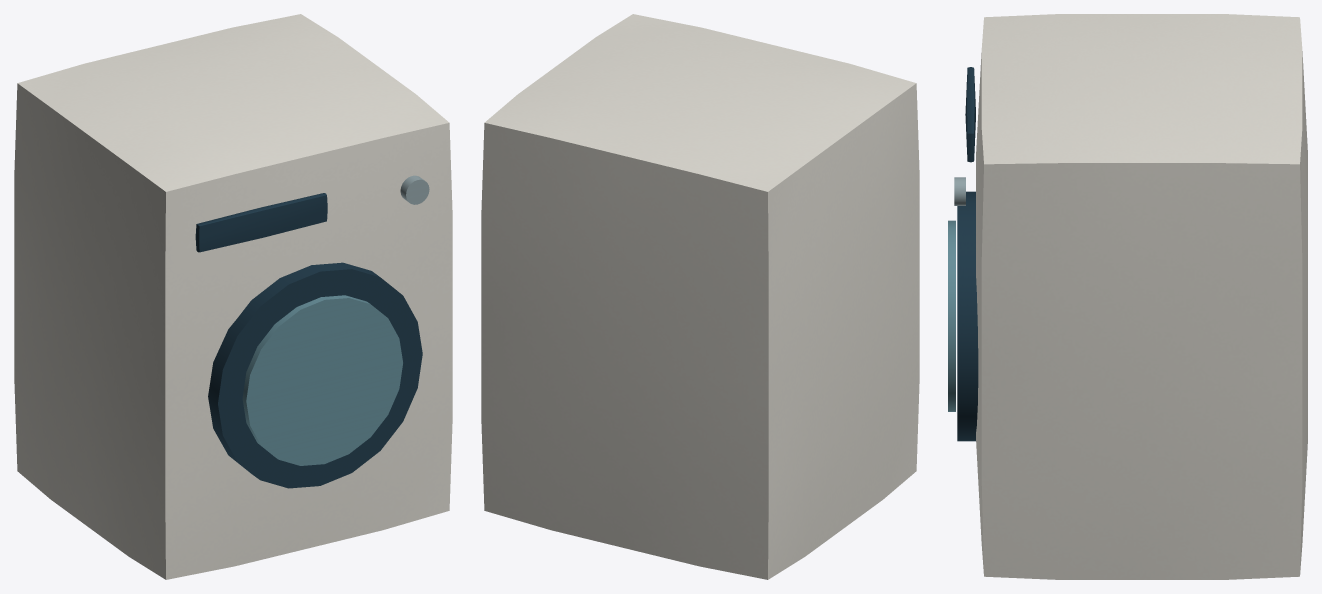
The model's file is washer.glb.
The picture shows the model from 3 angles, left to right: view 1: azimuth 30°, elevation 25°; view 2: azimuth 150°, elevation 25°; view 3: azimuth 270°, elevation 25°; orthographic projection. The views are drawn at different scales.
Visible parts, largest first — view 1: washer; view 2: washer; view 3: washer.
Part boxes in pixels (x1=…): washer: x1=14, y1=14, x2=452, y2=579; washer: x1=481, y1=14, x2=919, y2=579; washer: x1=948, y1=14, x2=1307, y2=579.
Size of the model in its own units: 0.68 by 0.88 by 0.6725.
5 materials, 5 textured.
